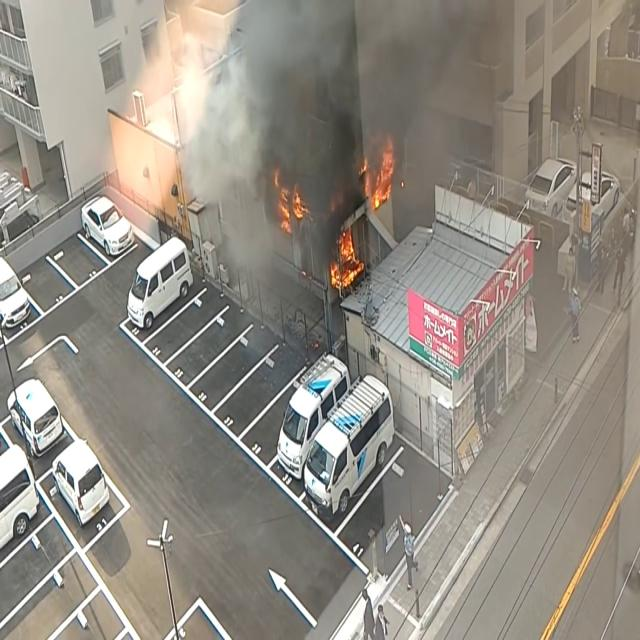Fire: (359, 132, 398, 212), (328, 219, 364, 293), (272, 170, 308, 232)
Smoke: (154, 2, 484, 271)
